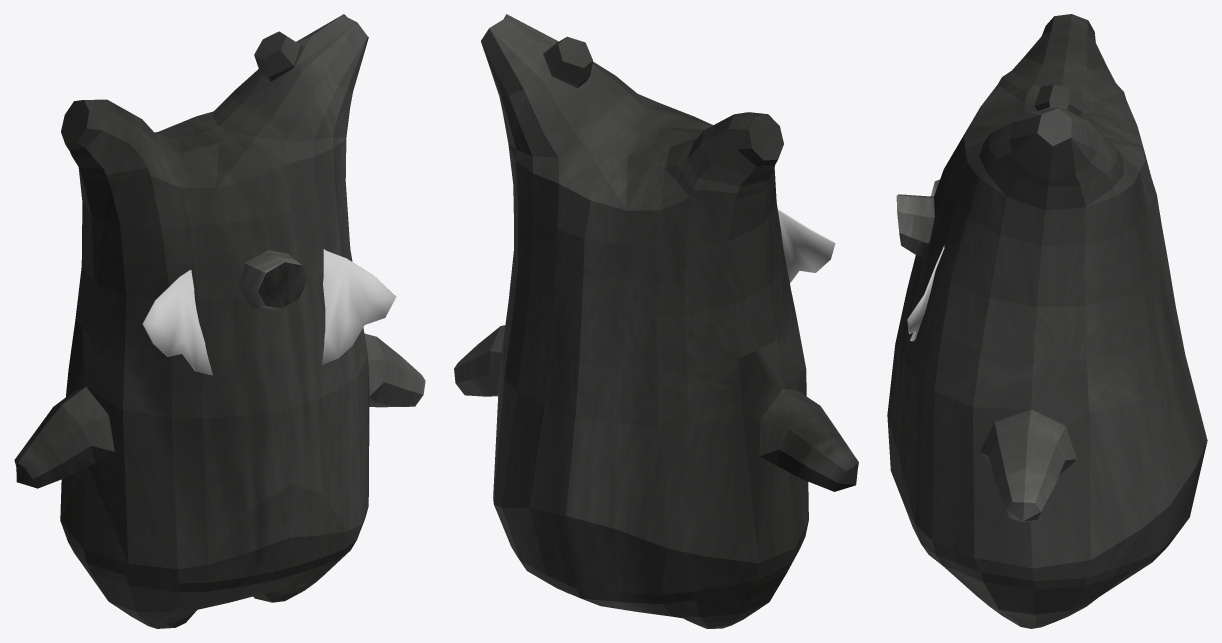
The model's file is frame_0085.obj.
3 renders of one model, left to right at view 1: azimuth 30°, elevation 25°; view 2: azimuth 150°, elevation 25°; view 3: azimuth 270°, elevation 25°, orthographic. The views are drawn at different scales.
Visible parts, largest first — view 1: korok, leaf, nose; view 2: korok, leaf; view 3: korok, nose, leaf.
Boxes of the visible parts, x1,y1,x2,y2 form: korok: [14, 14, 425, 628]; leaf: [142, 249, 396, 375]; nose: [239, 250, 307, 312]; korok: [454, 14, 858, 628]; leaf: [777, 209, 835, 282]; korok: [887, 14, 1207, 628]; nose: [896, 194, 934, 257]; leaf: [907, 179, 944, 341].
Size of the model in its own units: 1.67 by 2.24 by 1.17.
